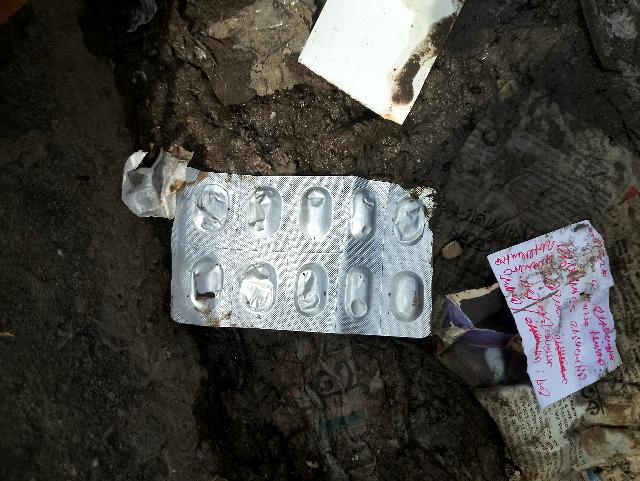medicine: (173, 162, 437, 336)
